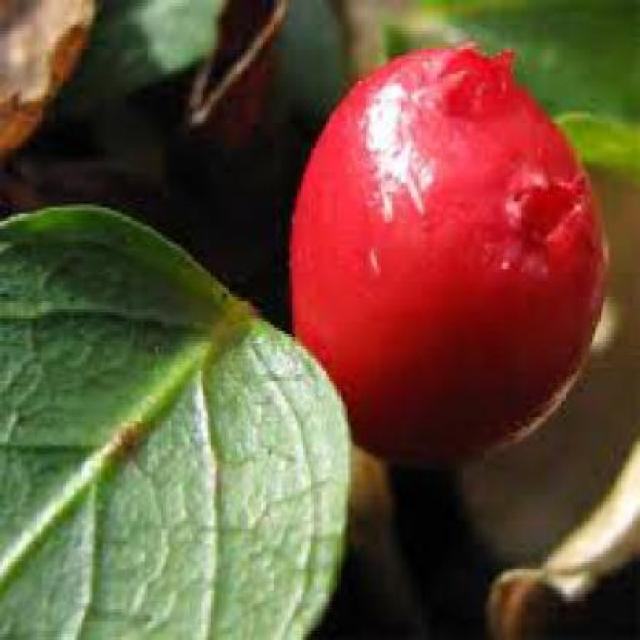BIODEGRADABLE: (0, 208, 349, 640), (291, 48, 605, 465)
